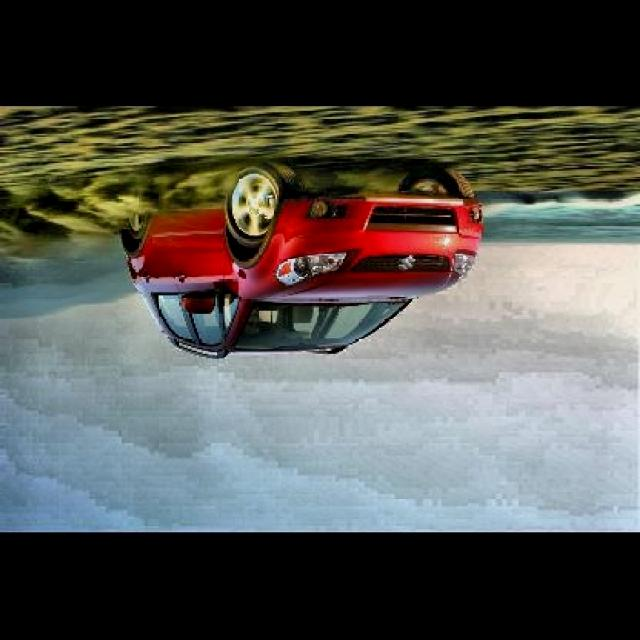maroon: (121, 152, 479, 356)
